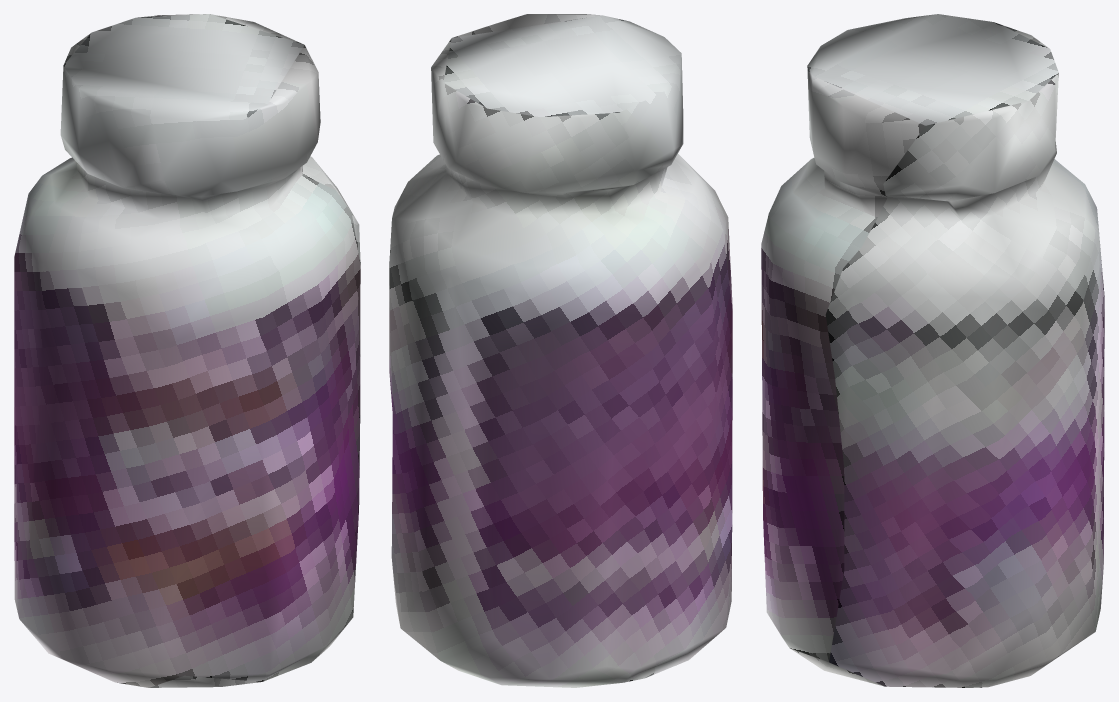
Rendered from Bifidus_Balance_FOS-low.glb.
3 renders of one model, left to right at view 1: azimuth 30°, elevation 25°; view 2: azimuth 150°, elevation 25°; view 3: azimuth 270°, elevation 25°, orthographic.
Parts seen in each view (by area): view 1: Bifidus_Balance_FOS; view 2: Bifidus_Balance_FOS; view 3: Bifidus_Balance_FOS.
Part boxes in pixels (bbox=[...]): Bifidus_Balance_FOS: bbox=[14, 14, 360, 687]; Bifidus_Balance_FOS: bbox=[389, 14, 732, 687]; Bifidus_Balance_FOS: bbox=[761, 14, 1104, 687].
Bounding box in the file's own units: 0.0539 × 0.0959 × 0.0531.
1 material, 1 textured.
